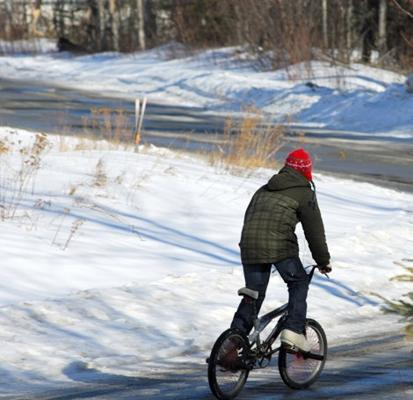person: (227, 145, 331, 354)
